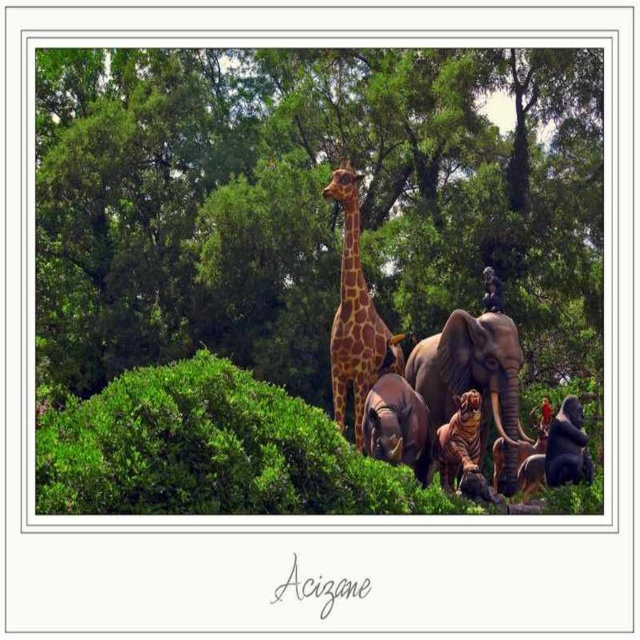Giraffe: (322, 140, 406, 453)
